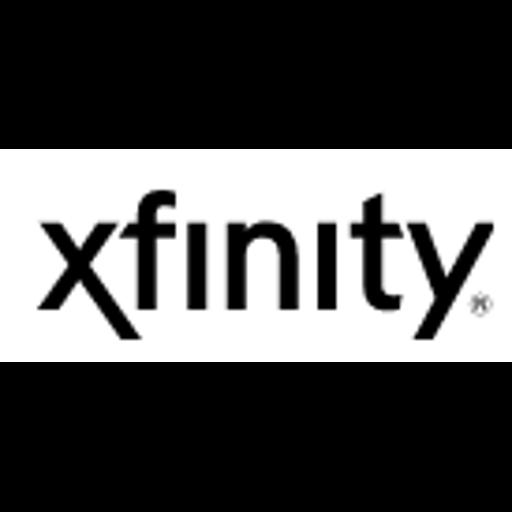Comcast Corporation: (0, 149, 512, 362)
